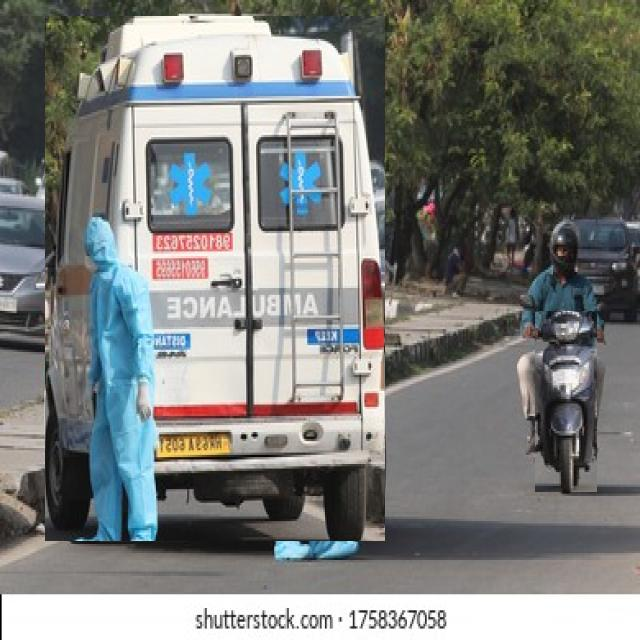car: (573, 219, 637, 321)
emergency: (45, 16, 385, 541), (535, 311, 597, 492)
motorcycle: (517, 223, 604, 493)
